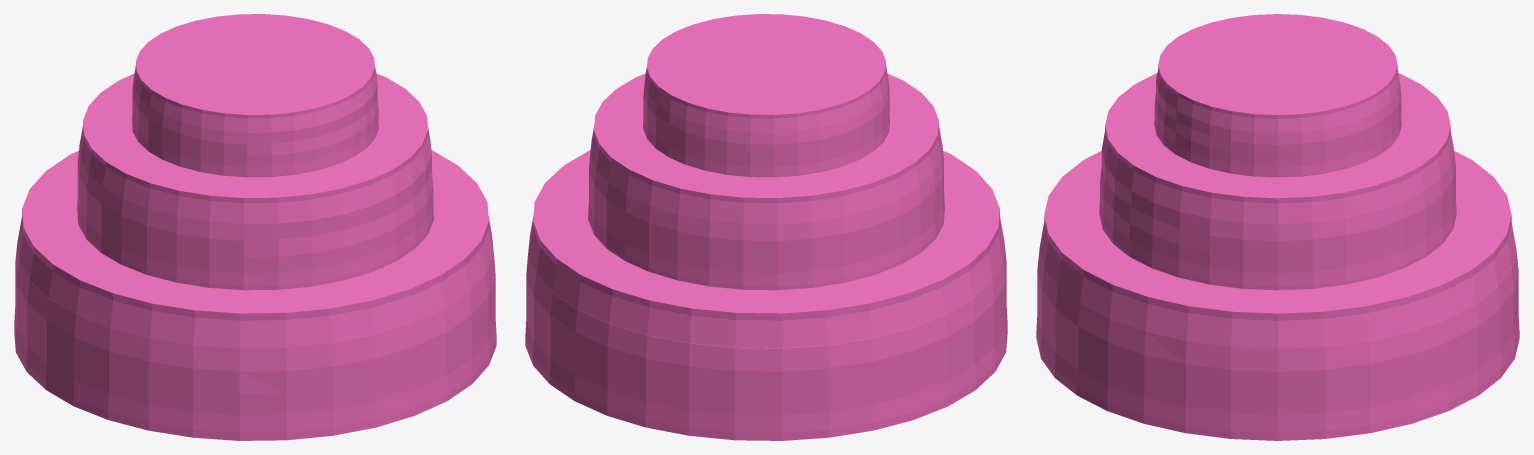
The model's file is sample3.glb.
The picture shows the model from 3 angles, left to right: view 1: azimuth 30°, elevation 25°; view 2: azimuth 150°, elevation 25°; view 3: azimuth 270°, elevation 25°; orthographic projection.
Visible parts, largest first — view 1: Cylinder, Cylinder.002, Cylinder.003, Cylinder.001; view 2: Cylinder, Cylinder.002, Cylinder.003, Cylinder.001; view 3: Cylinder, Cylinder.002, Cylinder.003, Cylinder.001.
Part boxes in pixels (box(x1,y1,x2,y2)): Cylinder: box(14, 150, 496, 440); Cylinder.002: box(77, 73, 433, 290); Cylinder.003: box(132, 14, 378, 177); Cylinder.001: box(15, 241, 495, 392); Cylinder: box(525, 150, 1007, 440); Cylinder.002: box(588, 73, 944, 290); Cylinder.003: box(643, 14, 889, 177); Cylinder.001: box(526, 236, 1006, 371); Cylinder: box(1036, 151, 1519, 440); Cylinder.002: box(1099, 73, 1456, 290); Cylinder.003: box(1154, 14, 1401, 177); Cylinder.001: box(1037, 247, 1518, 385).
Size of the model in its own units: 1.81 by 1.13 by 1.81.
